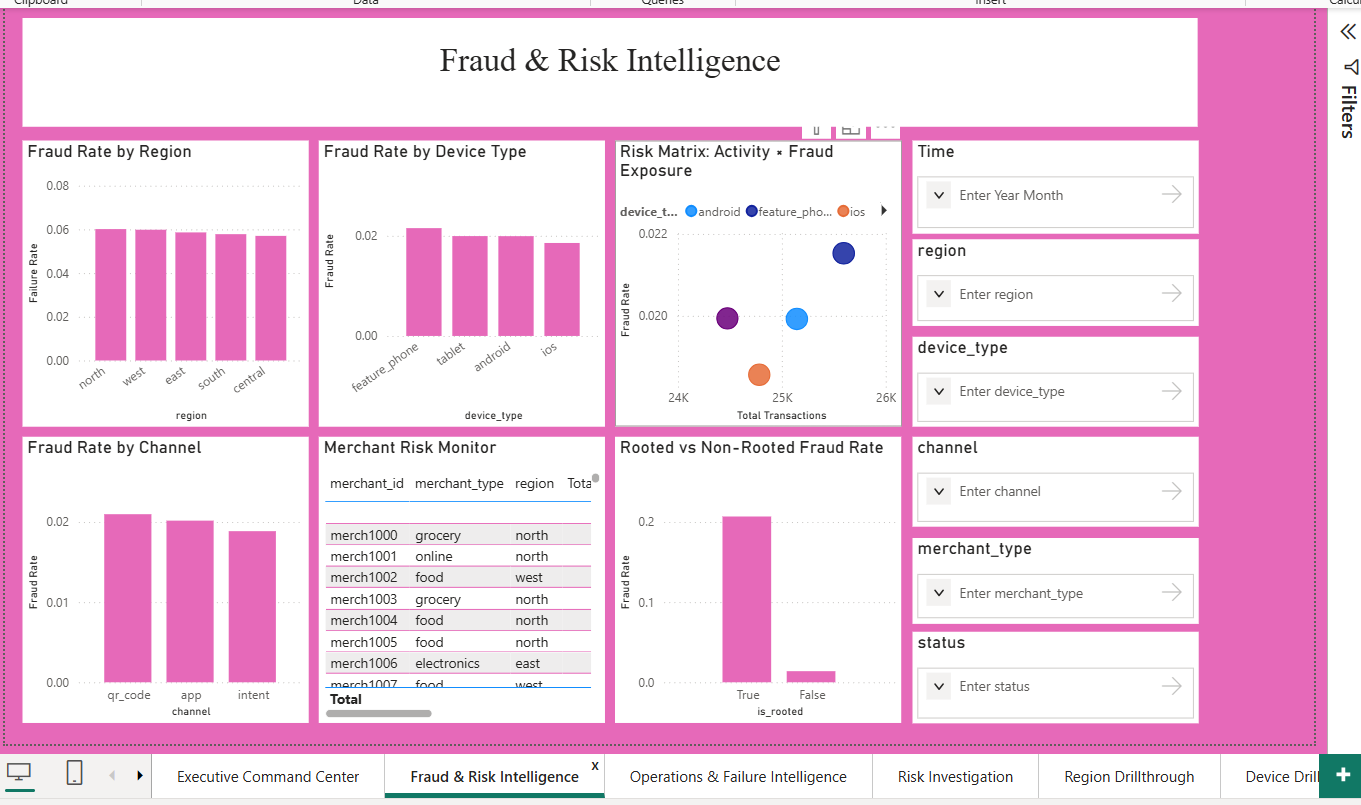

Layout of this report page (visuals, bound fields, positions):
{"tool":"powerbi","page":{"name":"Fraud & Risk Intelligence","canvas":[1280,720],"ordinal":1},"visuals":[{"type":"clusteredColumnChart","title":"Fraud Rate by Region","fields":{"Category":["Customers.region"],"Y":["UPI_Measures.Failure Rate"]},"box":[17.3,129.8,280,280],"z":0},{"type":"clusteredColumnChart","title":"Fraud Rate by Channel","fields":{"Category":["Transactions.channel"],"Y":["UPI_Measures.Fraud Rate"]},"box":[17,420,280,280],"z":1000},{"type":"clusteredColumnChart","title":"Fraud Rate by Device Type","fields":{"Category":["Devices.device_type"],"Y":["UPI_Measures.Fraud Rate"]},"box":[307.3,129.8,280,280],"z":2000},{"type":"scatterChart","title":"Risk Matrix: Activity × Fraud Exposure","fields":{"X":["UPI_Measures.Total Transactions"],"Y":["UPI_Measures.Fraud Rate"],"Size":["UPI_Measures.Total Transaction Value"],"Series":["Devices.device_type"]},"box":[597.3,129.8,280,280],"z":3000},{"type":"clusteredColumnChart","title":"Rooted vs Non-Rooted Fraud Rate","fields":{"Category":["Devices.is_rooted"],"Y":["UPI_Measures.Fraud Rate"]},"box":[597.3,419.8,280,280],"z":4000},{"type":"tableEx","title":"Merchant Risk Monitor","fields":{"Values":["Merchants.merchant_id","Merchants.merchant_type","Merchants.region","UPI_Measures.Total Transactions","UPI_Measures.Fraud Rate","UPI_Measures.Failure Rate","UPI_Measures.Total Transaction Value"]},"box":[307.3,419.8,280,280],"z":5000},{"type":"textSlicer","fields":{"Values":["Merchants.region"]},"box":[887.3,226.5,279.9,85.1],"z":6000},{"type":"textSlicer","fields":{"Values":["Devices.device_type"]},"box":[887.3,321.7,279.9,88],"z":7000},{"type":"textSlicer","fields":{"Values":["Transactions.channel"]},"box":[887.3,419.8,279.9,88],"z":8000},{"type":"textSlicer","fields":{"Values":["Merchants.merchant_type"]},"box":[887.3,518,279.9,83.7],"z":9000},{"type":"textSlicer","fields":{"Values":["Transactions.status"]},"box":[887.3,610.3,279.9,89.5],"z":10000},{"type":"textbox","box":[17.3,10.1,1149.9,106.8],"z":11000},{"type":"textSlicer","title":"Time","fields":{"Values":["DateTable.Year Month"]},"box":[887.3,129.8,279.9,90.9],"z":12000}]}

Visuals, with their boxes in screenshot pixels (x1, y1, x2, y2):
"Fraud Rate by Region" clusteredColumnChart: 28 138 311 422
"Fraud Rate by Channel" clusteredColumnChart: 28 432 311 715
"Fraud Rate by Device Type" clusteredColumnChart: 321 138 605 422
"Risk Matrix: Activity × Fraud Exposure" scatterChart: 615 138 898 422
"Rooted vs Non-Rooted Fraud Rate" clusteredColumnChart: 615 432 898 715
"Merchant Risk Monitor" tableEx: 321 432 605 715
textSlicer - Merchants.region: 908 236 1191 322
textSlicer - Devices.device_type: 908 332 1191 421
textSlicer - Transactions.channel: 908 432 1191 521
textSlicer - Merchants.merchant_type: 908 531 1191 616
textSlicer - Transactions.status: 908 624 1191 715
textbox: 28 17 1191 125
"Time" textSlicer: 908 138 1191 230
